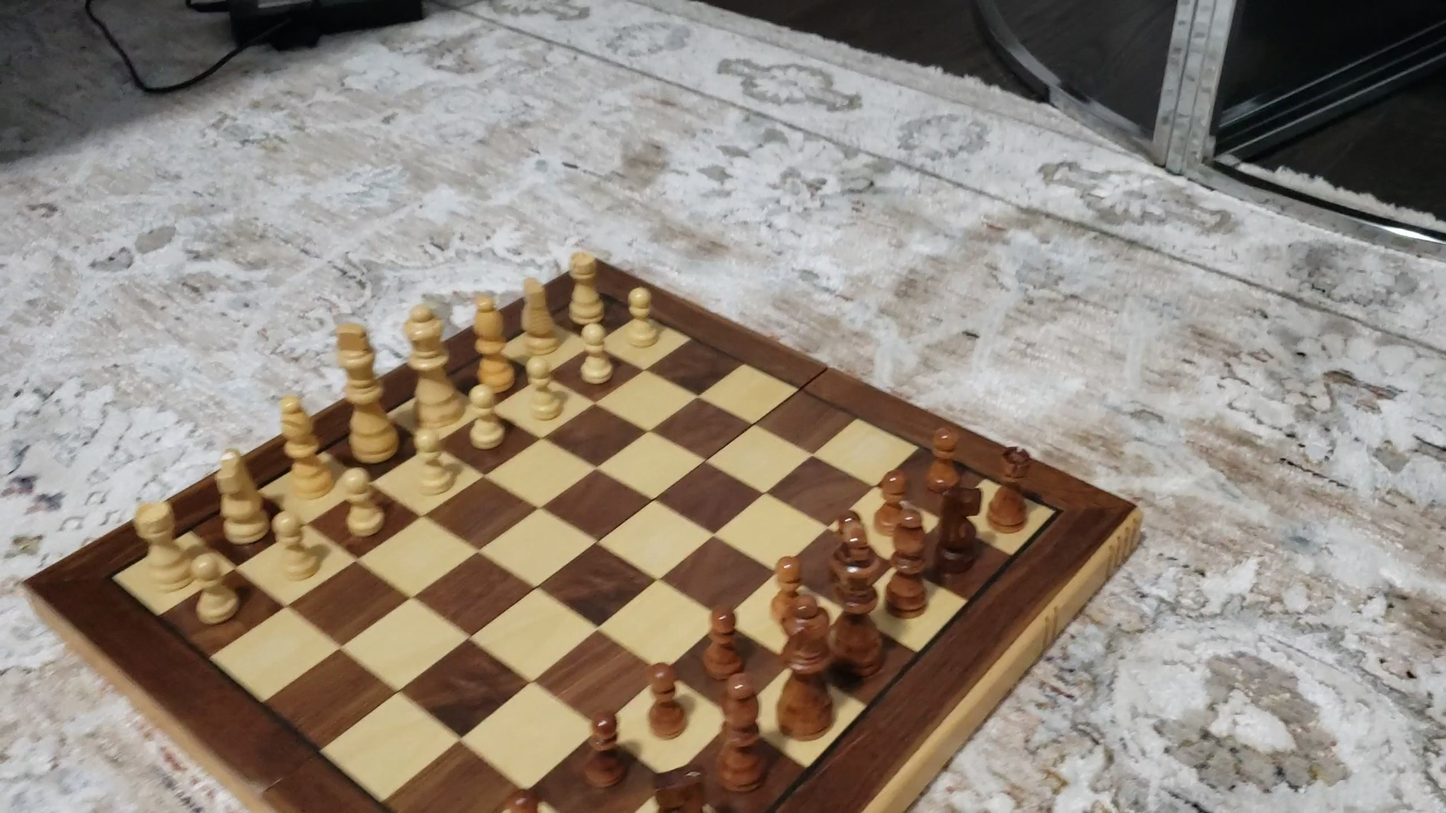black-bishop: (716, 674, 765, 793), (885, 508, 933, 619)
black-king: (821, 510, 888, 679)
black-knight: (930, 472, 982, 573), (650, 762, 709, 811)
black-pawn: (579, 707, 629, 792), (642, 658, 689, 742), (699, 602, 747, 684), (766, 552, 805, 631), (923, 422, 964, 496), (872, 467, 909, 535), (498, 784, 542, 812)
black-queen: (774, 595, 841, 741)
black-rook: (986, 443, 1034, 532)
white-bishop: (276, 392, 335, 499), (469, 289, 512, 395)
white-king: (333, 314, 402, 465)
white-knight: (212, 445, 269, 545), (518, 273, 563, 358)
white-pawn: (266, 502, 329, 585), (184, 550, 245, 629), (334, 466, 391, 543), (404, 425, 462, 499), (519, 348, 569, 424), (459, 382, 509, 454), (618, 282, 665, 352), (570, 319, 617, 387)
white-queen: (403, 299, 461, 429)
white-rook: (130, 497, 191, 594), (565, 247, 605, 328)
